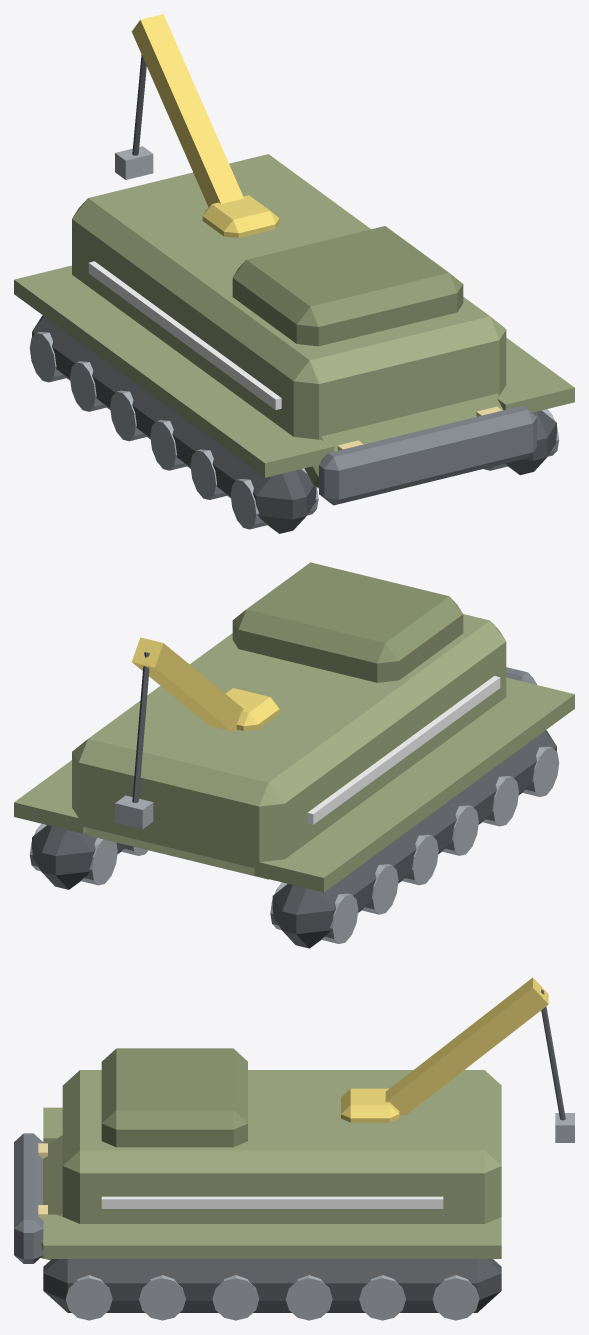
The model's file is recovery.glb.
3 renders of one model, top to bottom at view 1: azimuth 30°, elevation 25°; view 2: azimuth 150°, elevation 25°; view 3: azimuth 270°, elevation 25°, orthographic. The views are drawn at different scales.
Visible parts, largest first — view 1: main, turret; view 2: main, turret; view 3: main, turret.
Part boxes in pixels (bbox=[...]): main: bbox=[14, 154, 574, 533]; turret: bbox=[115, 14, 279, 238]; main: bbox=[14, 562, 574, 948]; turret: bbox=[115, 637, 279, 829]; main: bbox=[14, 1048, 501, 1320]; turret: bbox=[341, 977, 574, 1142].
Bounding box in the file's own units: 0.67 × 0.619 × 1.15.
